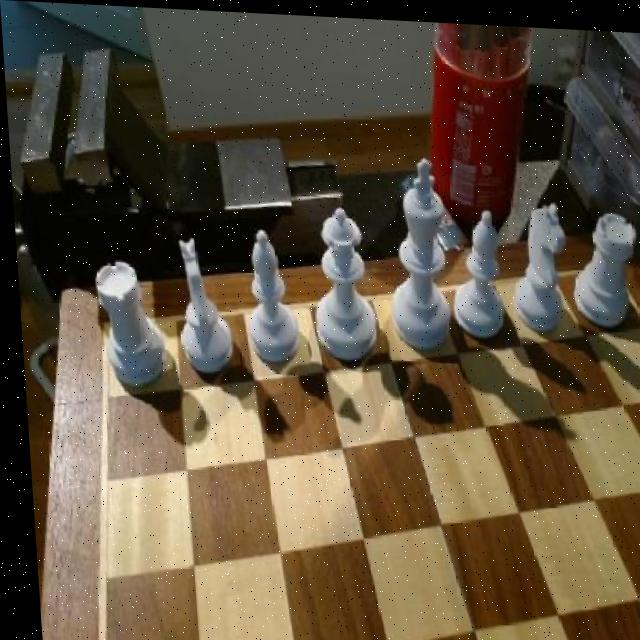black-rook: (232, 224, 300, 368), (439, 193, 502, 343)
white-bishop: (377, 148, 450, 353)
white-king: (502, 191, 571, 332), (166, 234, 229, 381)
white-pawn: (302, 200, 375, 370)
white-queen: (84, 255, 163, 387), (561, 198, 639, 326)
